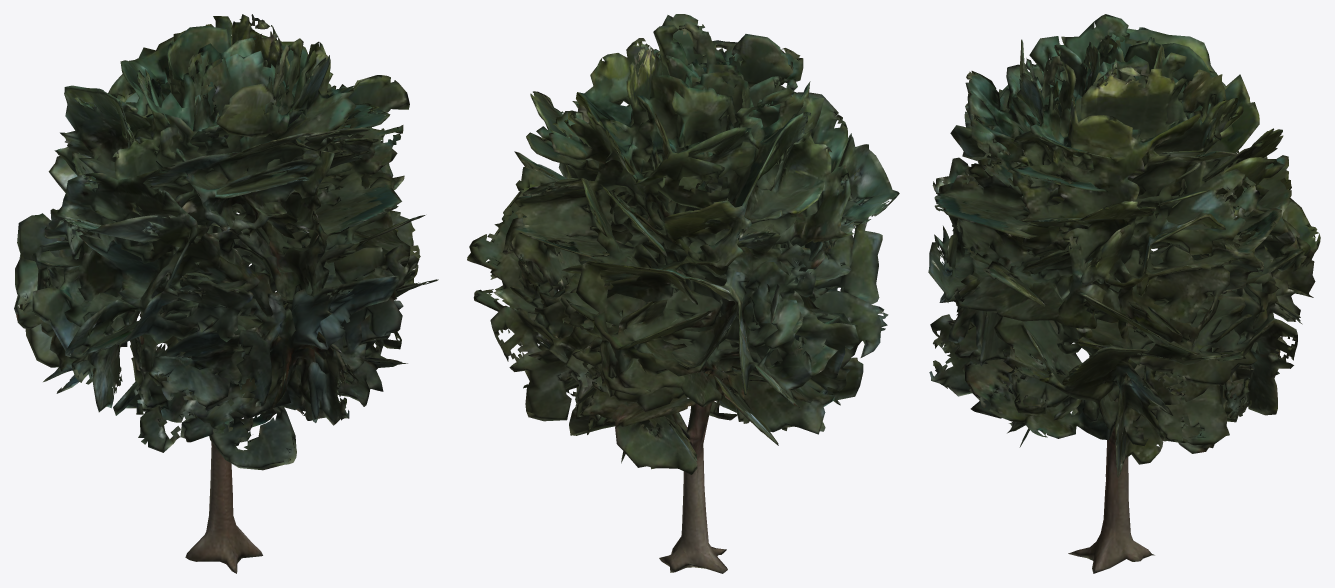
File: velvet.glb
3 views of the same model, side by side, from view 1: azimuth 30°, elevation 25°; view 2: azimuth 150°, elevation 25°; view 3: azimuth 270°, elevation 25° (orthographic).
Bounding box in the file's own units: 1.49 × 2 × 1.36.
Materials: 1 (1 with a texture image).
